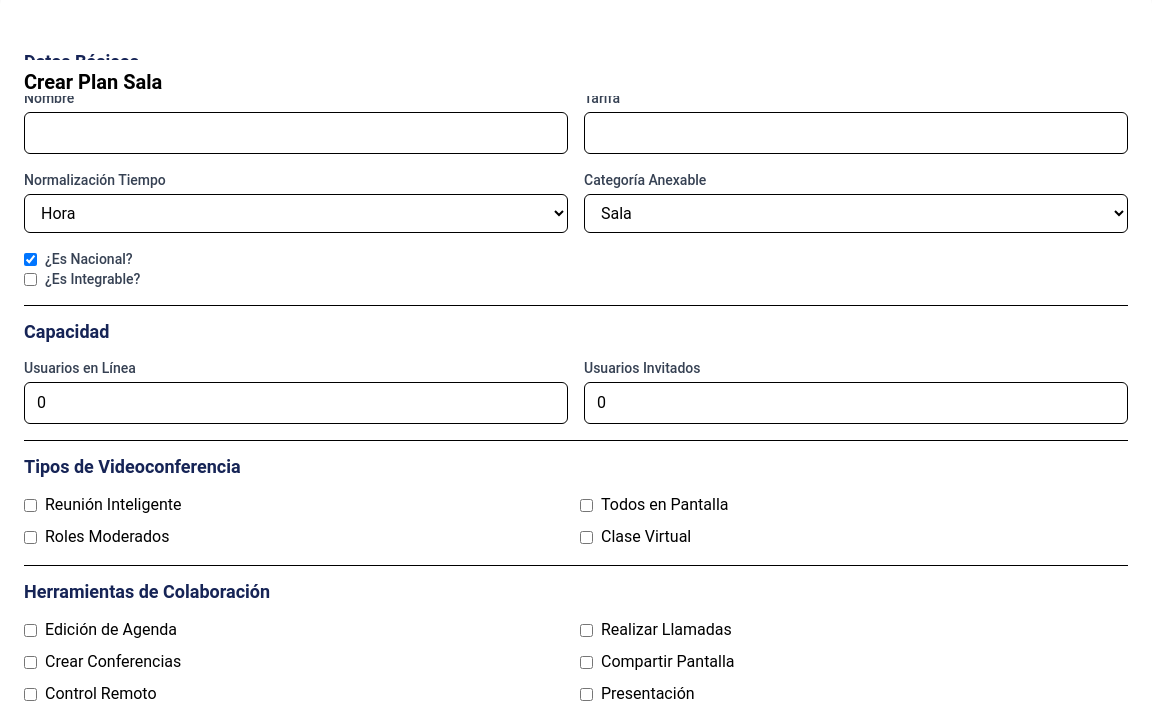
Test: PlanSalaForm › debe mostrar "Guardando..." mientras se envía
Expected: the heading "Crear Plan Sala" is shown, [24, 60, 1128, 96]
Type "Plan Test" into the field at {"x": 296, "y": 133}, box [24, 112, 568, 154]
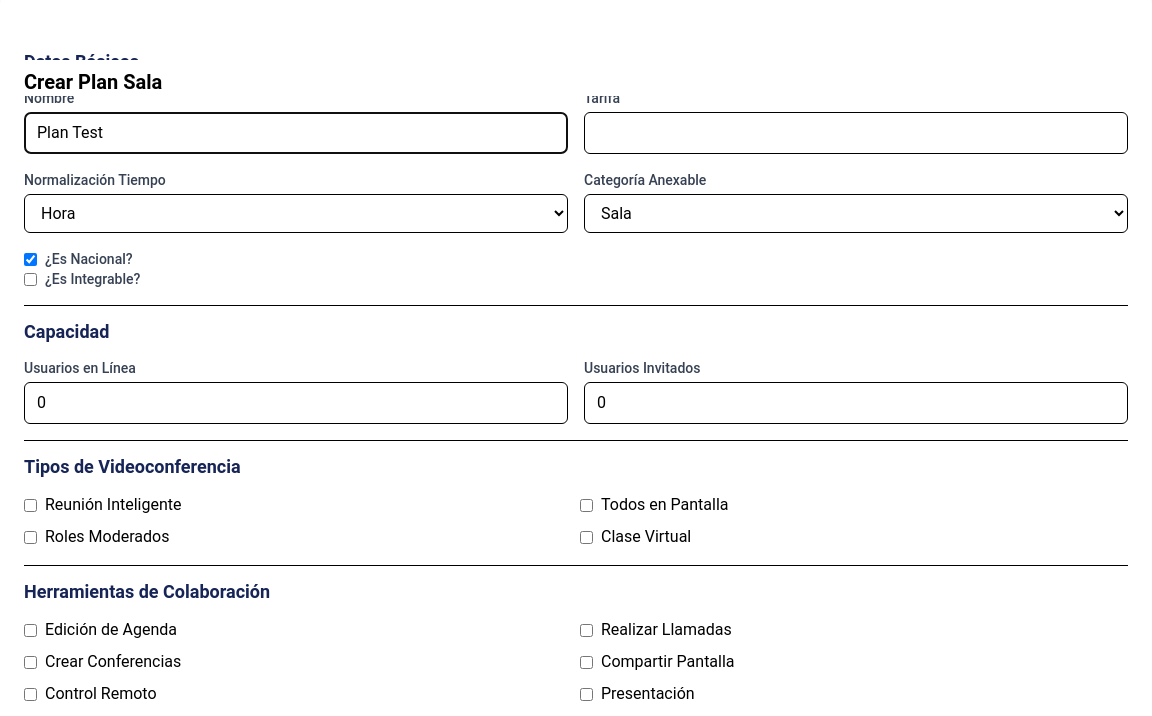
Type "450" into the number field below "Tarifa" at {"x": 856, "y": 133}, box [584, 112, 1128, 154]
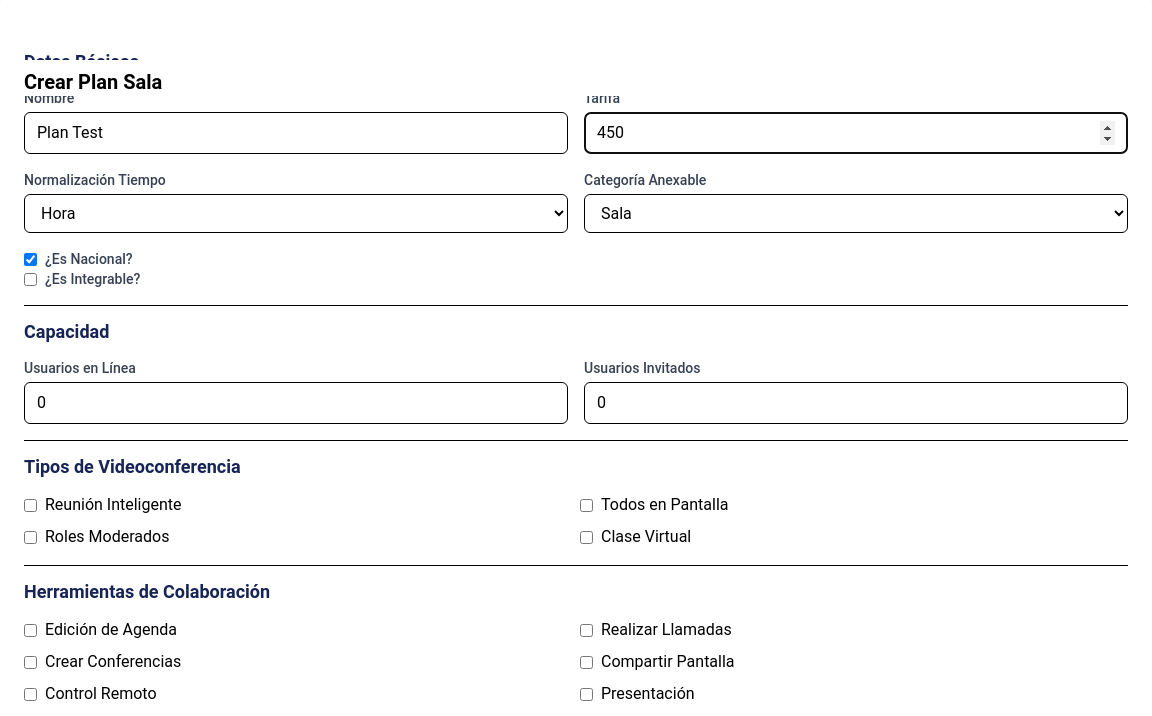
Replace the text in the number field below "Usuarios en Línea" with "10" at {"x": 296, "y": 403}, box [24, 382, 568, 424]
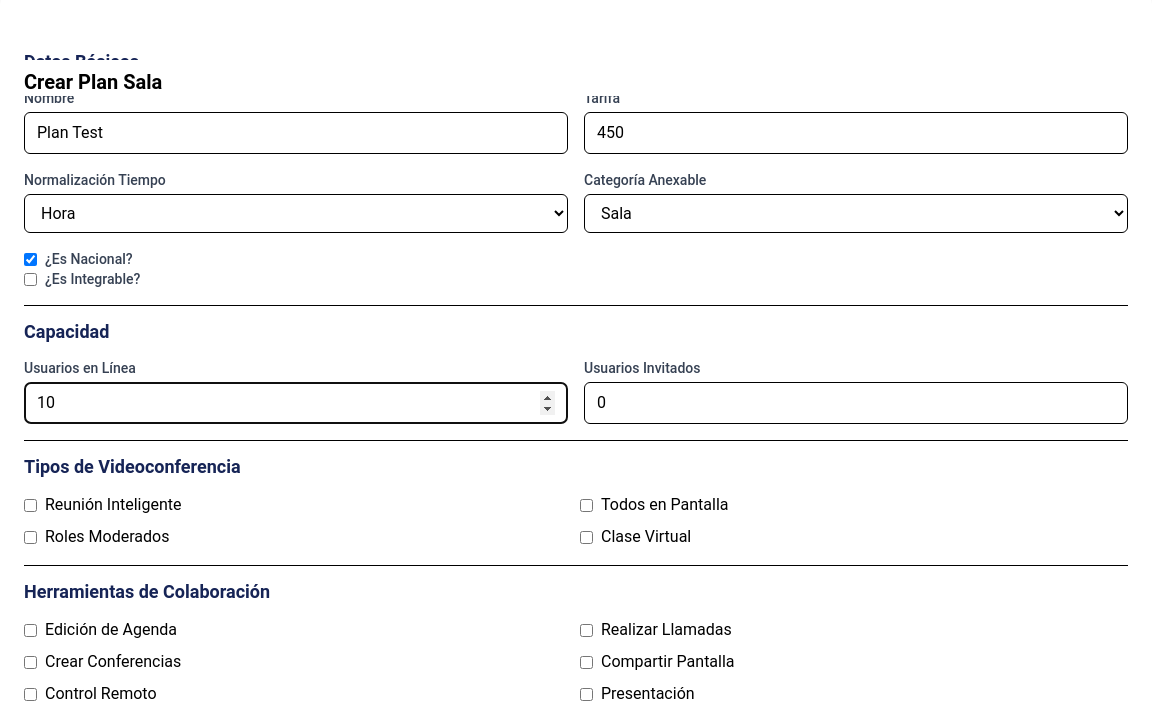
Replace the text in the number field below "Usuarios Invitados" with "10" at {"x": 856, "y": 403}, box [584, 382, 1128, 424]
(page scrolled)
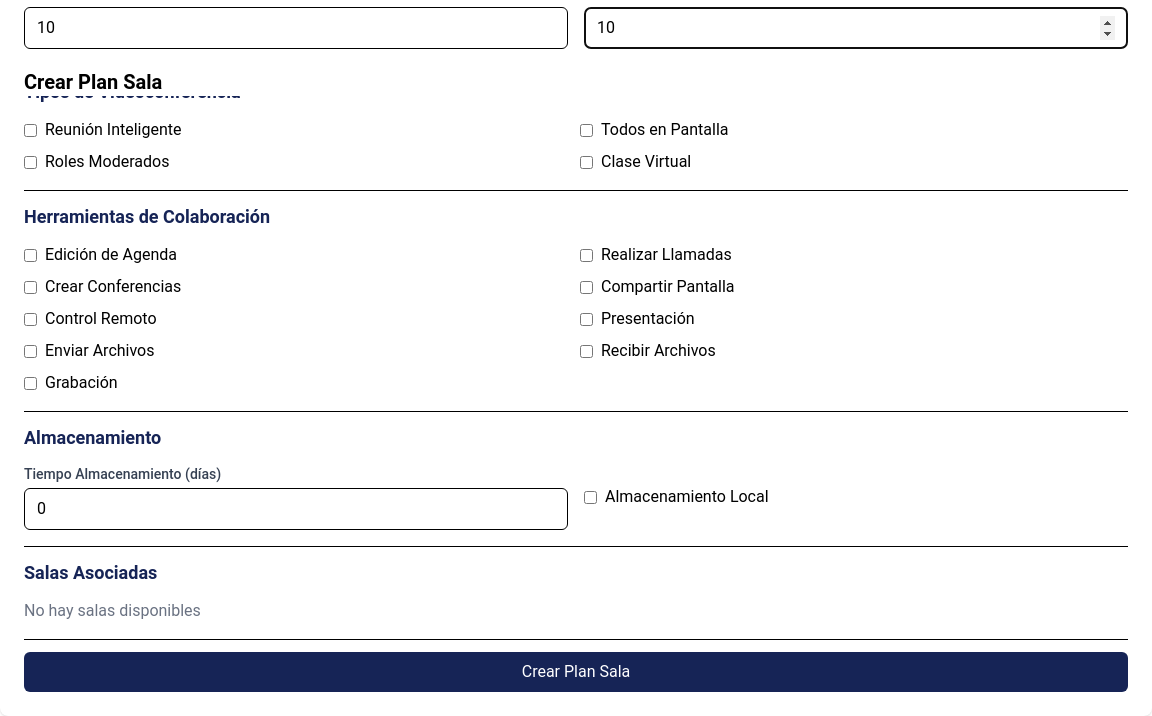
Click the button "Crear Plan Sala" at {"x": 576, "y": 672}, box [24, 652, 1128, 692]
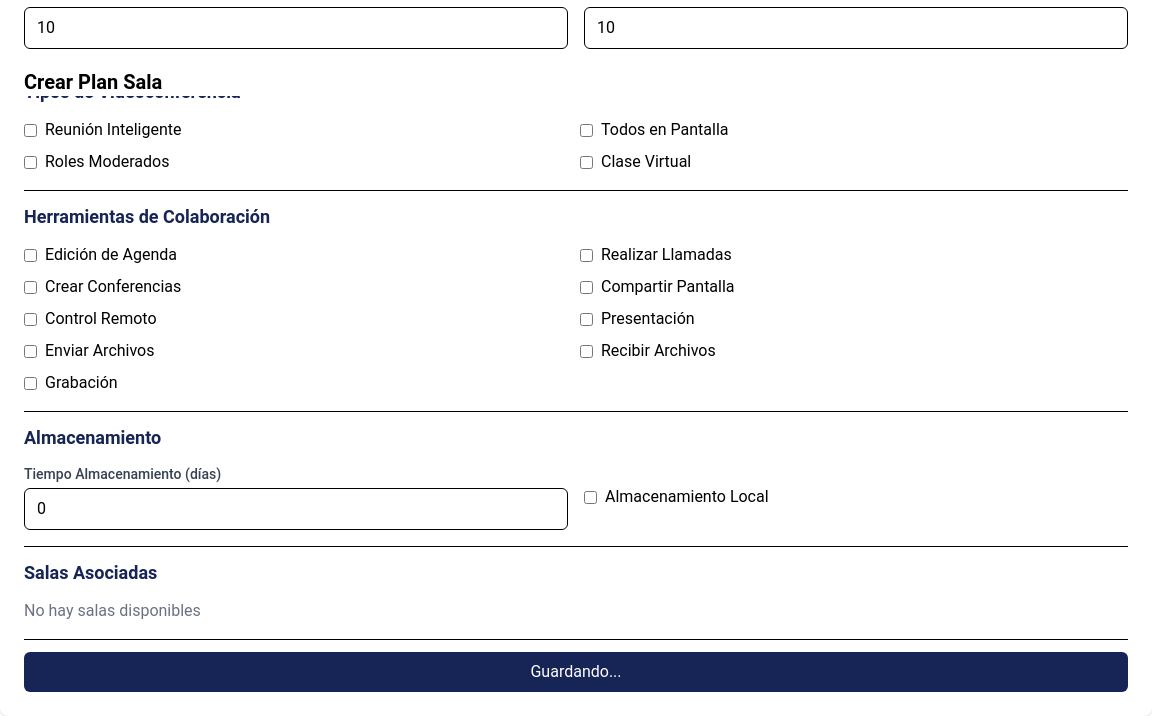
Result: the button "Guardando..." is shown at [24, 652, 1128, 692]
